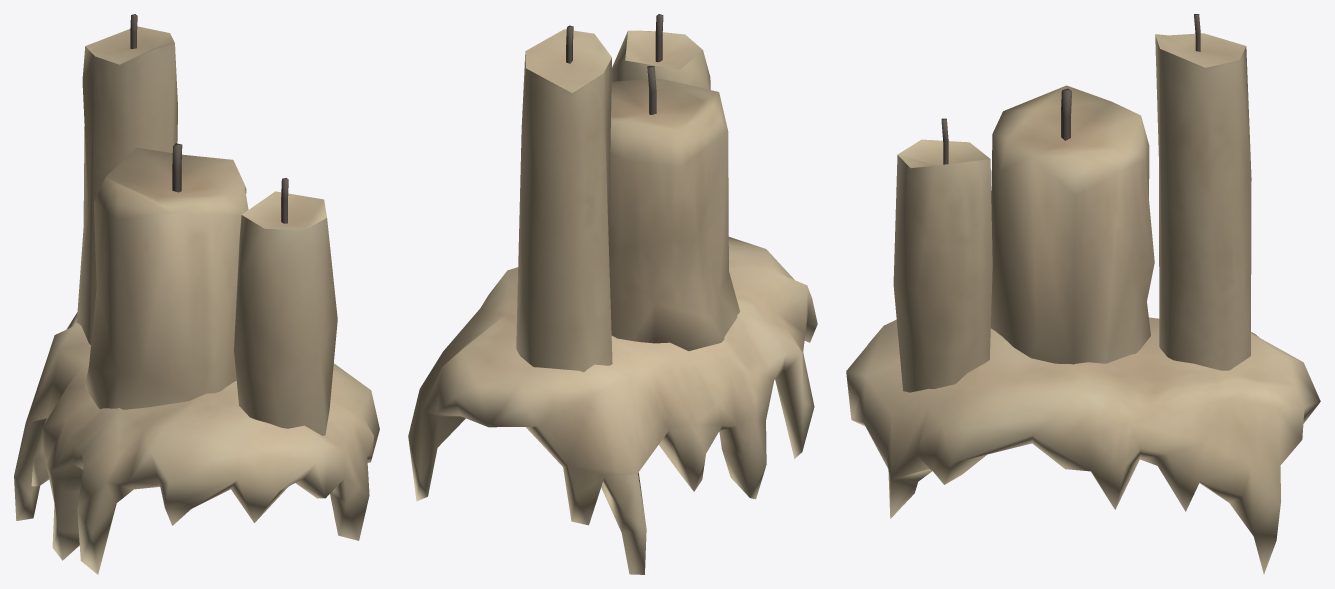
The model's file is SM_Candles_4.fbx.
3 views of the same model, side by side, from view 1: azimuth 30°, elevation 25°; view 2: azimuth 150°, elevation 25°; view 3: azimuth 270°, elevation 25° (orthographic). The views are drawn at different scales.
Visible parts, largest first — view 1: SM_Candles_4_LOD0; view 2: SM_Candles_4_LOD0; view 3: SM_Candles_4_LOD0.
Boxes of the visible parts, <box> form: SM_Candles_4_LOD0: <box>14,14,379,574</box>; SM_Candles_4_LOD0: <box>408,14,817,574</box>; SM_Candles_4_LOD0: <box>846,14,1320,573</box>.
Size of the model in its own units: 22.94 by 31.87 by 39.03.
